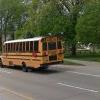Bus: (2, 34, 65, 73)
